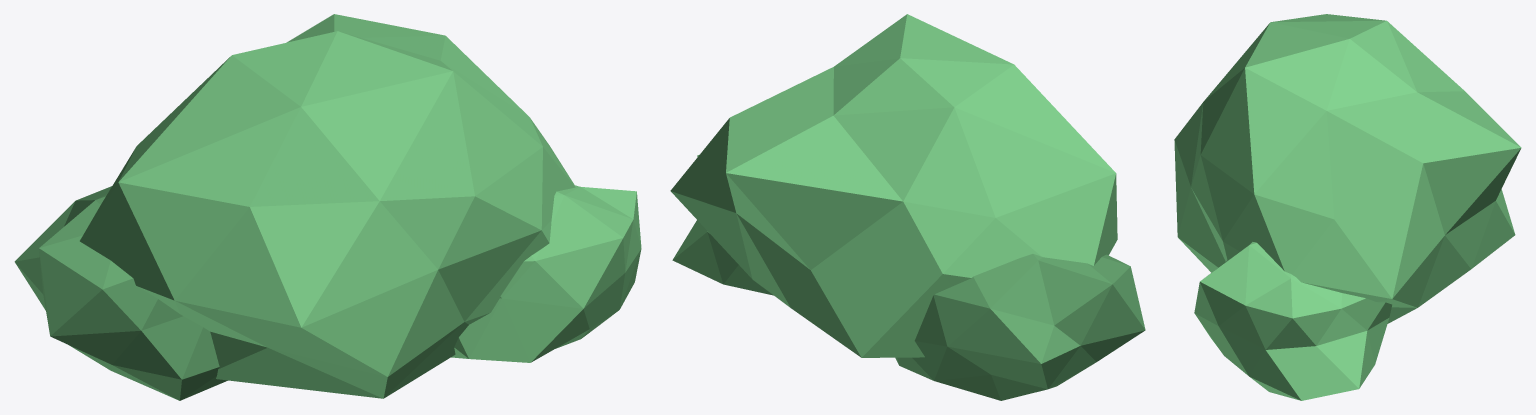
File: t3_rock_full.glb
3 renders of one model, left to right at view 1: azimuth 30°, elevation 25°; view 2: azimuth 150°, elevation 25°; view 3: azimuth 270°, elevation 25°, orthographic. The views are drawn at different scales.
Visible parts, largest first — view 1: CenterRock, LeftRock, RightRock; view 2: CenterRock, LeftRock, RightRock; view 3: CenterRock, RightRock.
Part boxes in pixels (<box>): CenterRock: <box>80,14,575,398</box>; LeftRock: <box>14,186,227,400</box>; RightRock: <box>451,185,641,362</box>; CenterRock: <box>670,14,1117,357</box>; LeftRock: <box>895,254,1145,400</box>; RightRock: <box>672,154,773,295</box>; CenterRock: <box>1174,14,1521,323</box>; RightRock: <box>1194,242,1391,400</box>.
Size of the model in its own units: 1.55 by 0.8681 by 0.9954.
